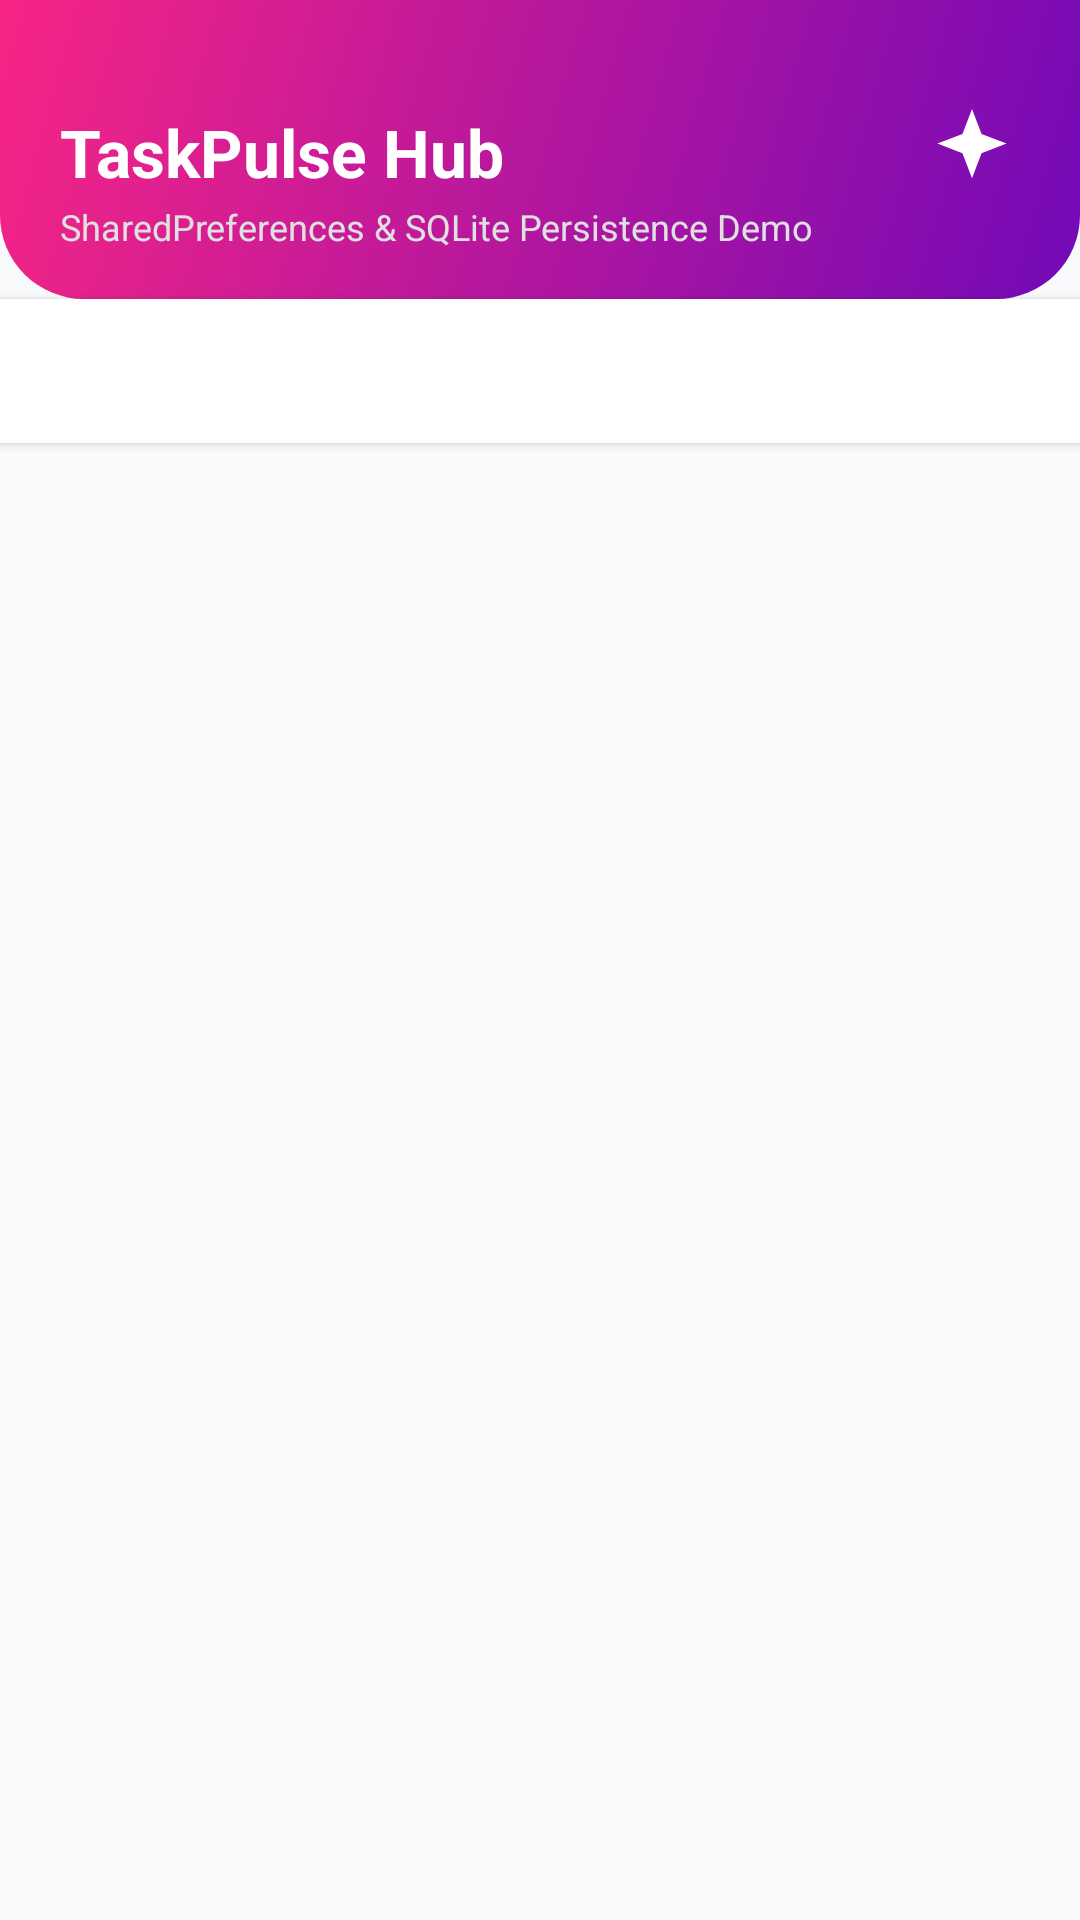

Icons on this 1080px×1920px Android screen, each with the point to tap as (x,y):
sparkle: (972,143)
